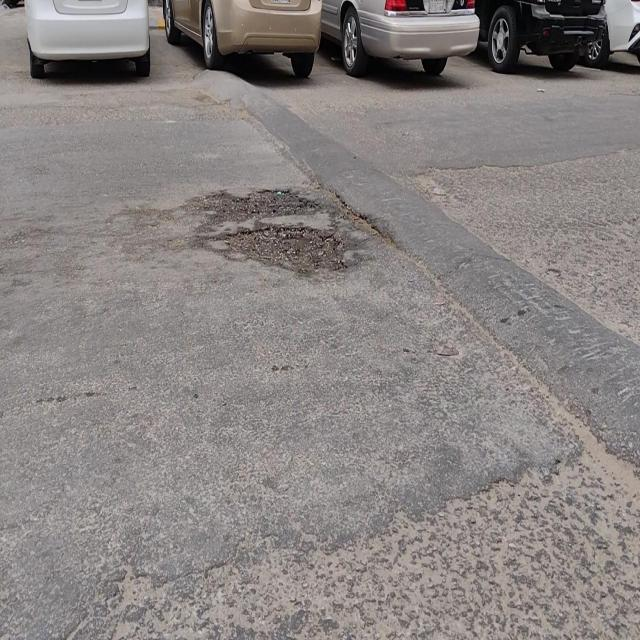Pothole: (227, 227, 346, 273), (219, 187, 320, 216)
Unmarked Bump: (202, 71, 640, 466)
